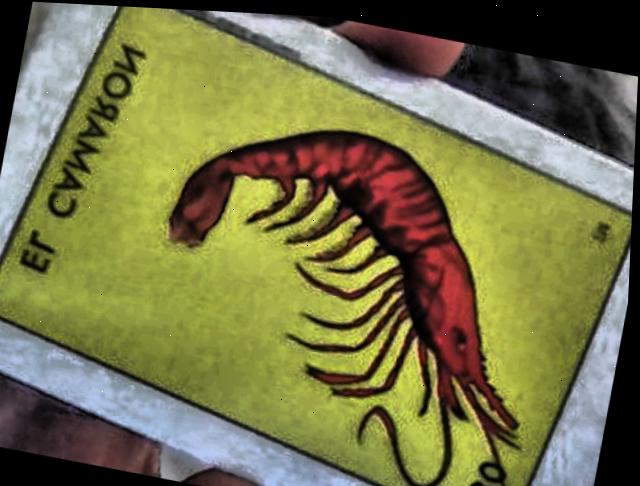El Camaron: (0, 5, 634, 486)
